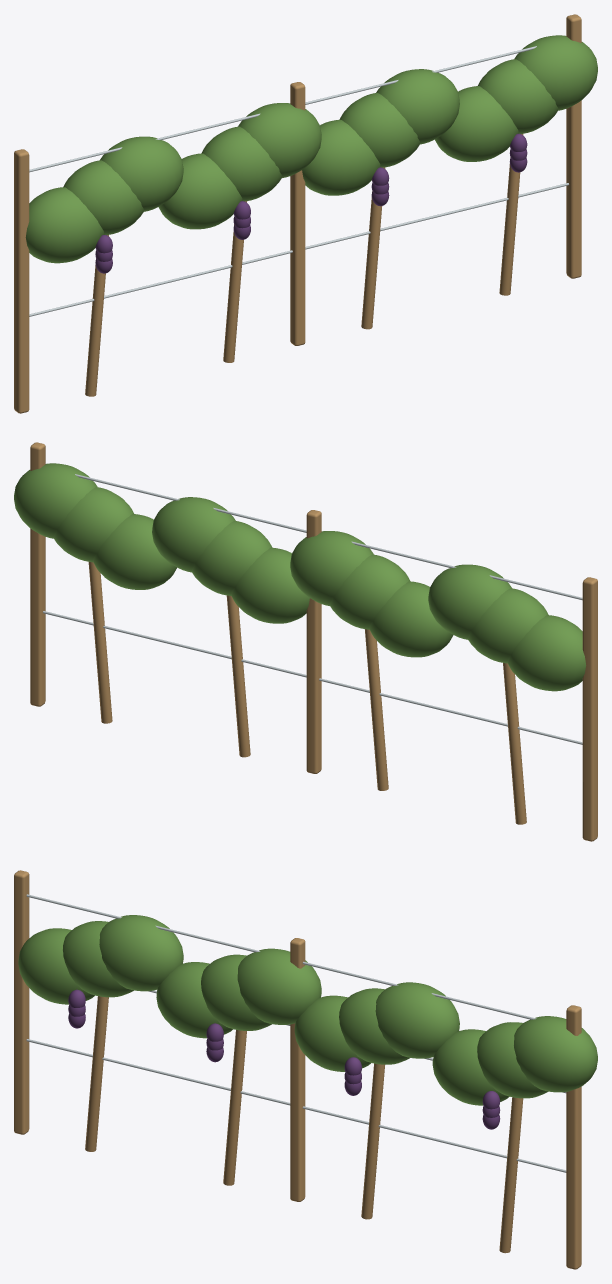
File: Vineyard_Row_4m.fbx
3 views of the same model, one above another, from view 1: azimuth 30°, elevation 25°; view 2: azimuth 150°, elevation 25°; view 3: azimuth 330°, elevation 25° (orthographic).
Visible parts, largest first — view 1: Vineyard_Row_4m_Green, Vineyard_Row_4m_Wood, Vineyard_Row_4m_Steel, Vineyard_Row_4m_Grape; view 2: Vineyard_Row_4m_Green, Vineyard_Row_4m_Wood, Vineyard_Row_4m_Steel; view 3: Vineyard_Row_4m_Green, Vineyard_Row_4m_Wood, Vineyard_Row_4m_Steel, Vineyard_Row_4m_Grape.
Boxes of the visible parts, box(x1,y1,x2,y2) form: Vineyard_Row_4m_Green: box(25, 35, 597, 263); Vineyard_Row_4m_Wood: box(14, 14, 581, 413); Vineyard_Row_4m_Steel: box(29, 46, 568, 316); Vineyard_Row_4m_Grape: box(95, 133, 527, 273); Vineyard_Row_4m_Green: box(14, 463, 586, 691); Vineyard_Row_4m_Wood: box(30, 442, 597, 841); Vineyard_Row_4m_Steel: box(43, 474, 582, 744); Vineyard_Row_4m_Green: box(18, 915, 597, 1105); Vineyard_Row_4m_Wood: box(14, 870, 581, 1269); Vineyard_Row_4m_Steel: box(26, 894, 566, 1172); Vineyard_Row_4m_Grape: box(68, 989, 500, 1129).
Bounding box in the file's own units: 419 × 180 × 44.5.
